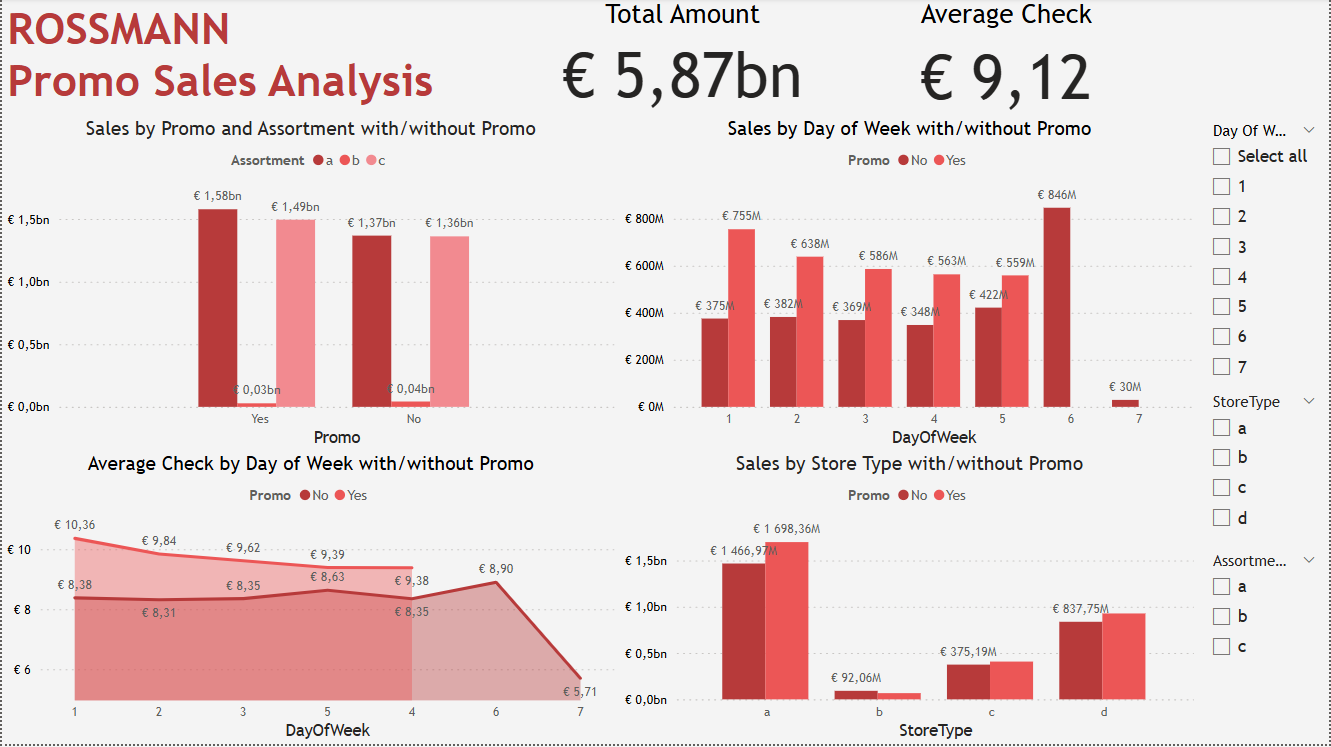

This screenshot's page, from the dashboard's own definition file:
{"tool":"powerbi","page":{"name":"Promo Sales","canvas":[1280,720],"ordinal":0},"visuals":[{"type":"clusteredColumnChart","title":"Sales by Promo and Assortment with/without Promo","fields":{"Category":["train.Promo"],"Y":["Sum(train.Sales)"],"Series":["store.Assortment"]},"box":[0,114.6,596,323.3],"z":0},{"type":"clusteredColumnChart","title":"Sales by Day of Week with/without Promo","fields":{"Category":["train.DayOfWeek"],"Y":["Sum(train.Sales)"],"Series":["train.Promo"]},"box":[596,114.6,559.8,323.3],"z":1000},{"type":"areaChart","title":"Average Check by Day of Week with/without Promo","fields":{"Category":["train.DayOfWeek"],"Y":["train.AvgCheck"],"Series":["train.Promo"]},"box":[0,437.9,596,282.3],"z":2000},{"type":"clusteredColumnChart","title":"Sales by Store Type with/without Promo","fields":{"Category":["store.StoreType"],"Y":["Sum(train.Sales)"],"Series":["train.Promo"]},"box":[596,437.9,559.8,282.3],"z":3000},{"type":"slicer","fields":{"Values":["train.DayOfWeek"]},"box":[1155.8,114.6,124.3,261.8],"z":4000},{"type":"slicer","fields":{"Values":["store.StoreType"]},"box":[1155.8,376.4,124.3,179.8],"z":5000},{"type":"slicer","fields":{"Values":["store.Assortment"]},"box":[1155.8,529.6,124.3,154.4],"z":6000},{"type":"textbox","box":[0,0,520,114.6],"z":7000},{"type":"card","title":"Total Amount","fields":{"Values":["Sum(train.Sales)"]},"box":[504.3,0,305.2,114.6],"z":8000},{"type":"card","title":"Average Check","fields":{"Values":["train.AvgCheck"]},"box":[856.6,0,225.6,114.6],"z":9000}]}

Visuals, with their boxes in screenshot pixels (x1, y1, x2, y2), scaled from the page's 1280x720 canvas onto the 1331x747 screenshot:
"Sales by Promo and Assortment with/without Promo" clusteredColumnChart: bbox(0, 119, 620, 454)
"Sales by Day of Week with/without Promo" clusteredColumnChart: bbox(620, 119, 1202, 454)
"Average Check by Day of Week with/without Promo" areaChart: bbox(0, 454, 620, 746)
"Sales by Store Type with/without Promo" clusteredColumnChart: bbox(620, 454, 1202, 746)
slicer - train.DayOfWeek: bbox(1202, 119, 1330, 391)
slicer - store.StoreType: bbox(1202, 391, 1330, 577)
slicer - store.Assortment: bbox(1202, 549, 1330, 710)
textbox: bbox(0, 0, 541, 119)
"Total Amount" card: bbox(524, 0, 842, 119)
"Average Check" card: bbox(891, 0, 1125, 119)
